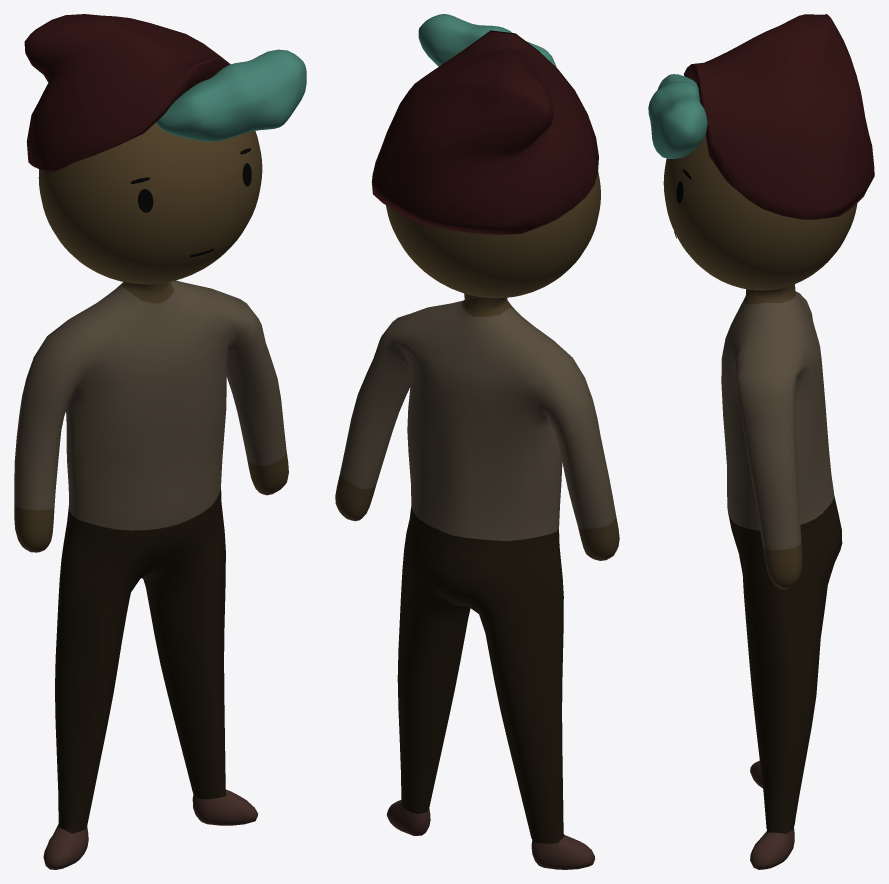
Rendered from updated file for models.fbx.
The picture shows the model from 3 angles, left to right: view 1: azimuth 30°, elevation 25°; view 2: azimuth 150°, elevation 25°; view 3: azimuth 270°, elevation 25°; orthographic projection. The views are drawn at different scales.
Parts seen in each view (by area): view 1: model2; view 2: model2; view 3: model2.
Part boxes in pixels (left/top/right/bottom): model2: left=14, top=14, right=306, bottom=869; model2: left=335, top=14, right=619, bottom=869; model2: left=648, top=14, right=874, bottom=869.
Size of what is drawn, in the model's own units: 0.6704 by 1.91 by 0.4986.
